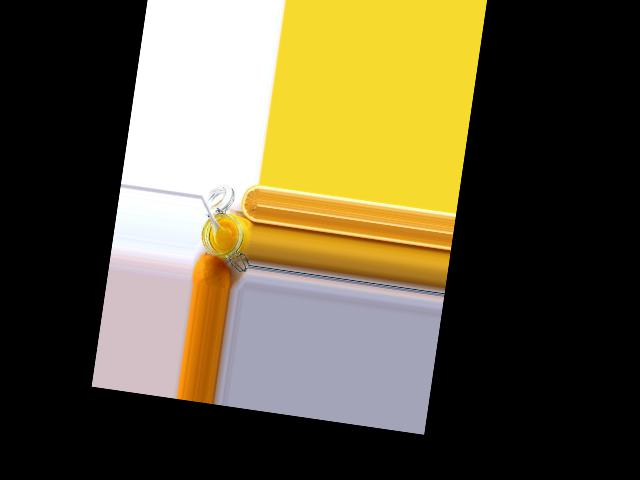lemon: (192, 250, 233, 289)
